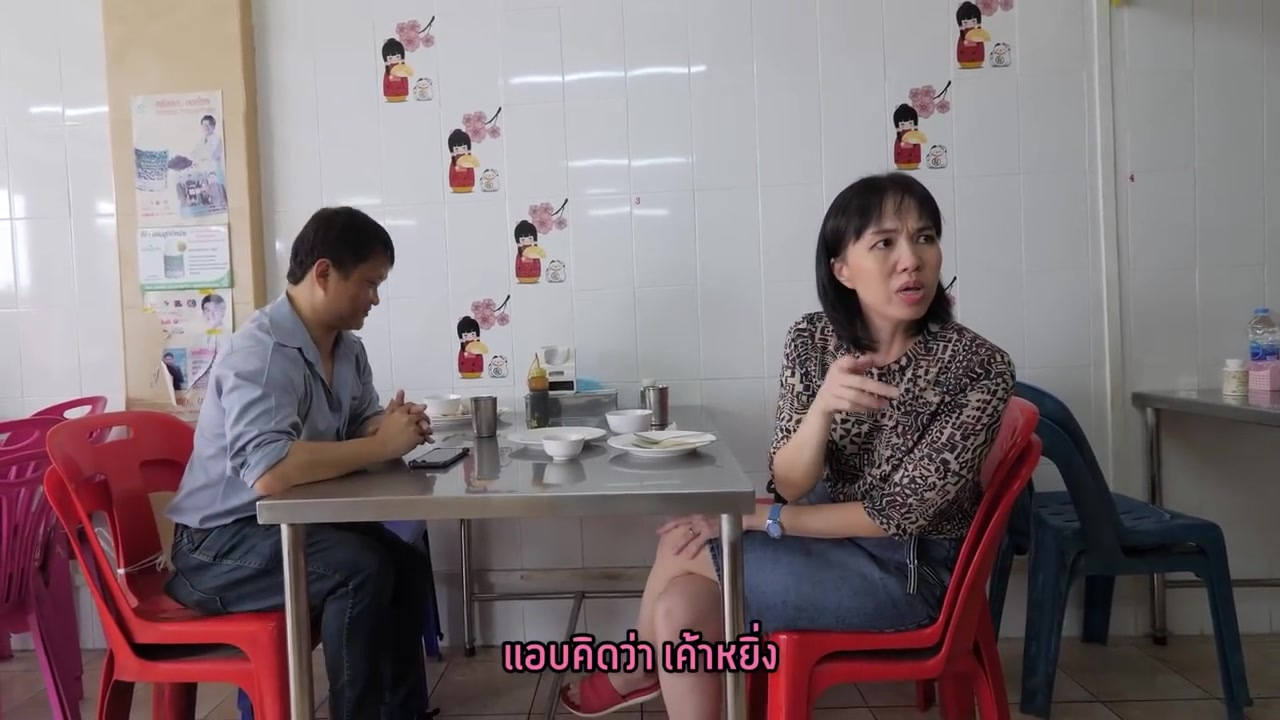text-label: (499, 617, 784, 674)
